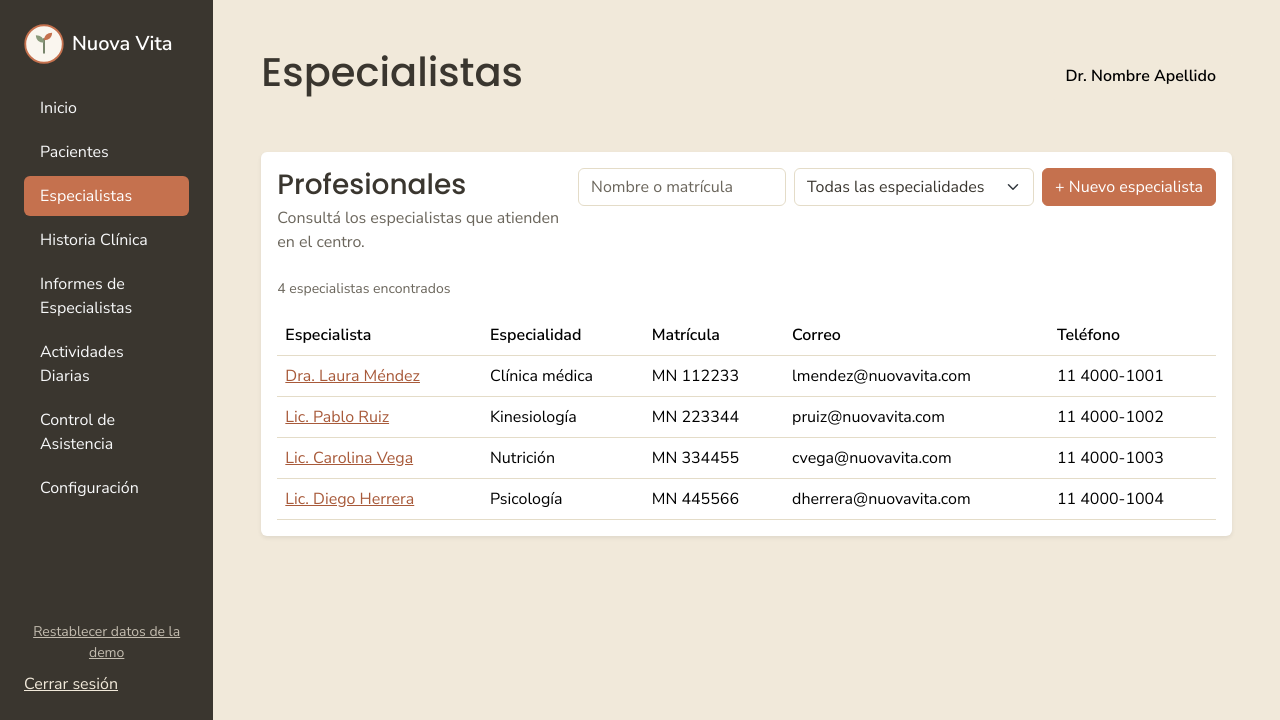
Scenario: listado y ficha de especialistas › filtra por especialidad y enlaza con la ficha
Select "Nutrición" in the dropdown named "Filtrar por especialidad" at {"x": 914, "y": 187}, box x1=794 y1=168 x2=1034 y2=206
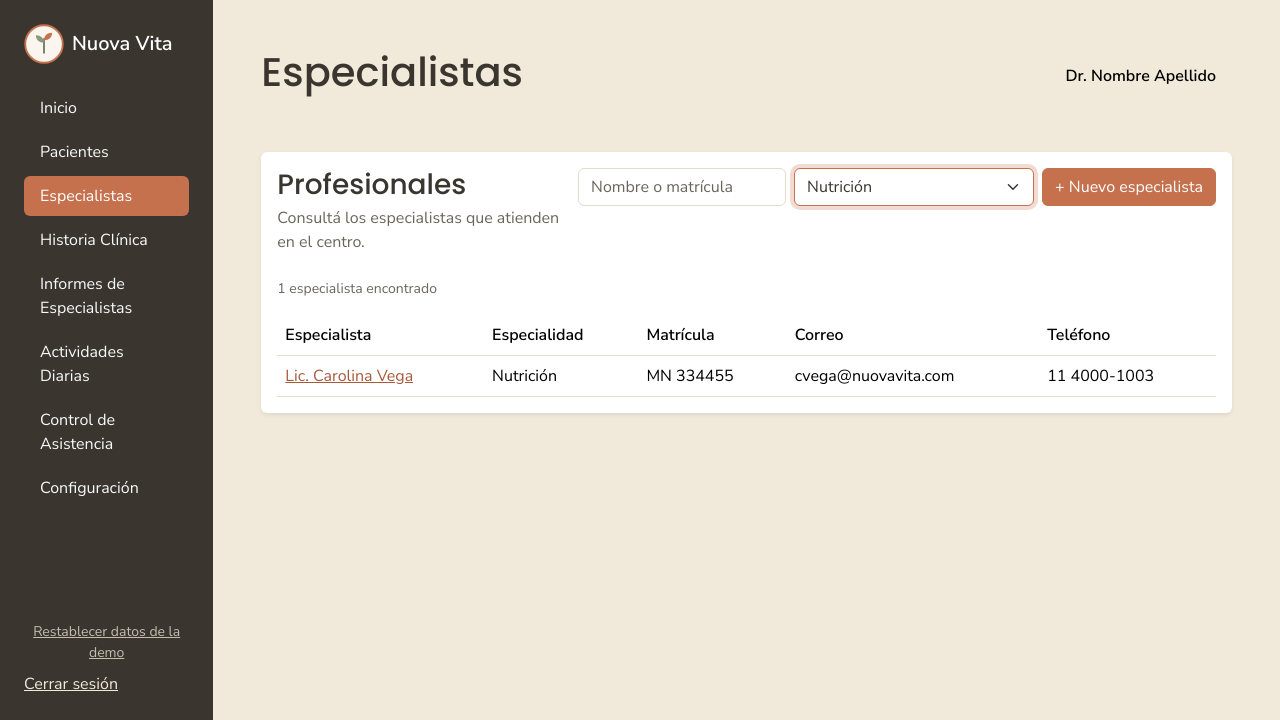
expect the text "1 especialista encontrado" is shown: met, box x1=277 y1=279 x2=437 y2=298
